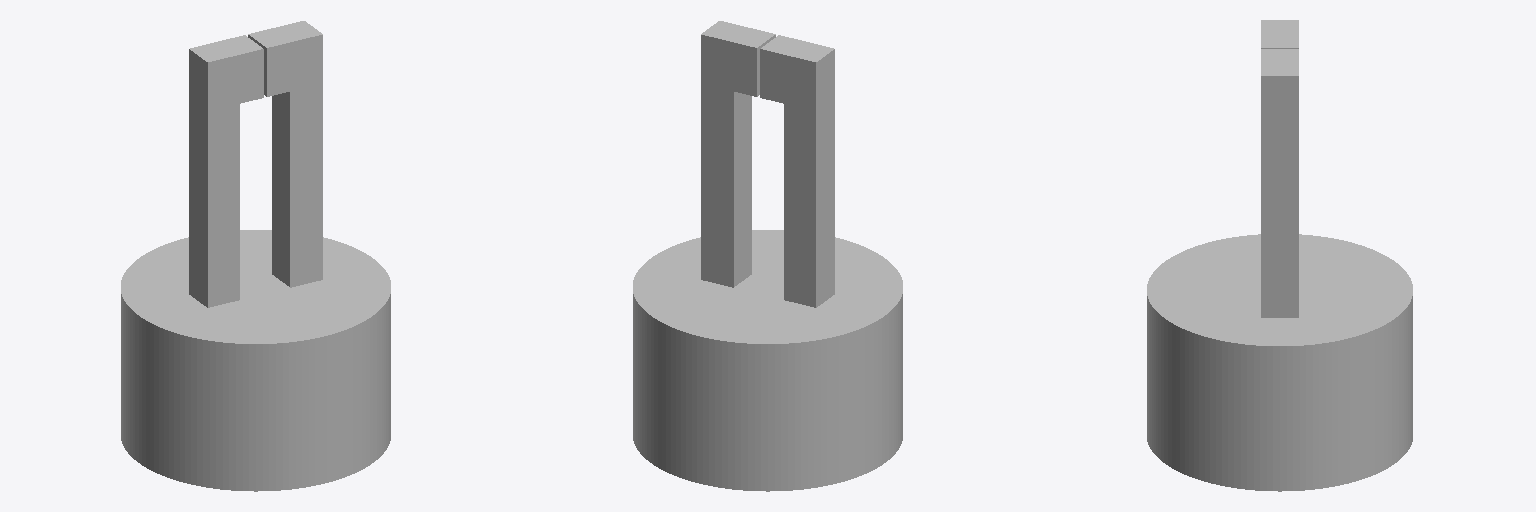
URDF robot description (gripper):
<?xml version="1.0" ?>
<robot name="gripper">
  <!--Generated by CROSS, a ROS Workbench for FreeCAD (https://github.com/galou/freecad.cross)-->
  <link name="hand">
    <visual>
      <!--hand_3r-->
      <origin rpy="0.0 -0.0 0.0" xyz="0.0 0.0 0.0"/>
      <geometry>
        <mesh filename="package://robots_description/meshes/hand_3r.dae"/>
      </geometry>
    </visual>
    <inertial>
      <mass value="0.0"/>
      <origin rpy="0.0 -0.0 0.0" xyz="0.0 0.0 0.0"/>
      <inertia ixx="0.0" ixy="0.0" ixz="0.0" iyy="0.0" iyz="0.0" izz="0.0"/>
    </inertial>
  </link>
  <link name="left_finger">
    <visual>
      <!--finger_3r-->
      <origin rpy="3.141592653589793 1.5707963267948966 0.0" xyz="0.0 -0.0035 -0.03"/>
      <geometry>
        <mesh filename="package://robots_description/meshes/finger_3r.dae"/>
      </geometry>
    </visual>
    <inertial>
      <mass value="0.0"/>
      <origin rpy="0.0 -0.0 0.0" xyz="0.0 0.0 0.0"/>
      <inertia ixx="0.0" ixy="0.0" ixz="0.0" iyy="0.0" iyz="0.0" izz="0.0"/>
    </inertial>
  </link>
  <link name="right_finger">
    <visual>
      <!--finger_3r-->
      <origin rpy="-0.0 1.5707963267948966 0.0" xyz="0.0 0.0035 -0.03"/>
      <geometry>
        <mesh filename="package://robots_description/meshes/finger_3r.dae"/>
      </geometry>
    </visual>
    <inertial>
      <mass value="0.0"/>
      <origin rpy="0.0 -0.0 0.0" xyz="0.0 0.0 0.0"/>
      <inertia ixx="0.0" ixy="0.0" ixz="0.0" iyy="0.0" iyz="0.0" izz="0.0"/>
    </inertial>
  </link>
  <joint name="hand_left_finger" type="prismatic">
    <parent link="hand"/>
    <child link="left_finger"/>
    <origin rpy="-0.0 1.5707963267948966 0.0" xyz="0.0 0.0 0.03"/>
    <axis xyz="0 0 1"/>
    <limit effort="0.0" lower="0.0" upper="0.0" velocity="0.0"/>
  </joint>
  <joint name="hand_right_finger" type="prismatic">
    <parent link="hand"/>
    <child link="right_finger"/>
    <origin rpy="-0.0 -1.5707963267948961 0.0" xyz="0.0 0.0 0.03"/>
    <axis xyz="0 0 1"/>
    <limit effort="0.0" lower="0.0" upper="0.0" velocity="0.0"/>
    <mimic joint="hand_left_finger" multiplier="1.0" offset="0.0"/>
  </joint>
</robot>

--- What the picture shows (computed from the rendered views, not written in the file) ---
3 views of the same robot in one strip: view 1: azimuth 30°, elevation 25°; view 2: azimuth 150°, elevation 25°; view 3: azimuth 270°, elevation 25° (orthographic).
Robot: gripper — 3 links, 2 joints (2 prismatic); root link hand; default pose: all joints at 0.
Links seen in each view (by area): view 1: hand, right_finger, left_finger; view 2: hand, right_finger, left_finger; view 3: hand, left_finger, right_finger.
Boxes of the visible links, left/top/right/bottom form: hand: left=121, top=230, right=390, bottom=491; right_finger: left=189, top=35, right=263, bottom=307; left_finger: left=248, top=21, right=322, bottom=287; hand: left=633, top=230, right=902, bottom=491; right_finger: left=760, top=35, right=834, bottom=307; left_finger: left=701, top=21, right=775, bottom=287; hand: left=1147, top=234, right=1412, bottom=491; left_finger: left=1261, top=49, right=1298, bottom=317; right_finger: left=1261, top=20, right=1298, bottom=48.
Size in the robot's own frame: 0.05 by 0.05 by 0.08 metres.
3 mesh visuals loaded from 2 distinct referenced files (2 Collada DAE).